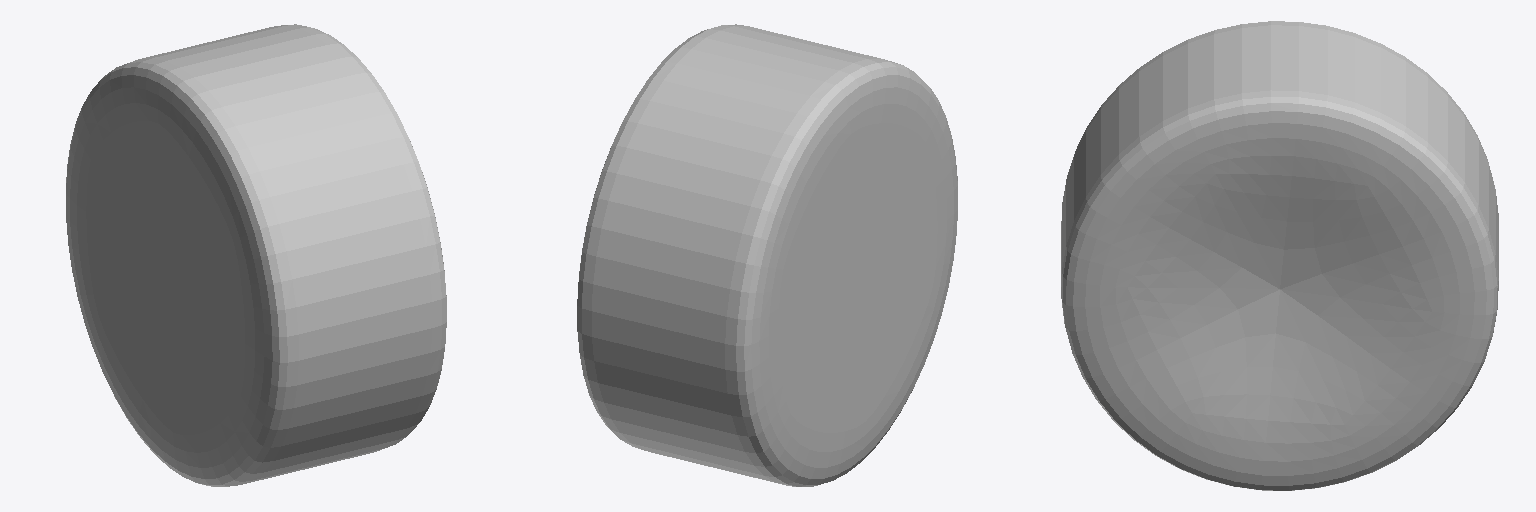
The model's file is llantatraseraizquierda.obj.
The picture shows the model from 3 angles: view 1: azimuth 30°, elevation 25°; view 2: azimuth 150°, elevation 25°; view 3: azimuth 270°, elevation 25°; orthographic projection.
Visible parts, largest first — view 1: 10604_slot_car_red_SG_v1_iterations-2.005; view 2: 10604_slot_car_red_SG_v1_iterations-2.005; view 3: 10604_slot_car_red_SG_v1_iterations-2.005.
Part boxes in pixels (x1,y1,x2,y2): 10604_slot_car_red_SG_v1_iterations-2.005: (66, 24, 446, 486); 10604_slot_car_red_SG_v1_iterations-2.005: (577, 24, 957, 486); 10604_slot_car_red_SG_v1_iterations-2.005: (1061, 21, 1498, 490).
Bounding box in the file's own units: 0.3758 × 0.7895 × 0.7894.